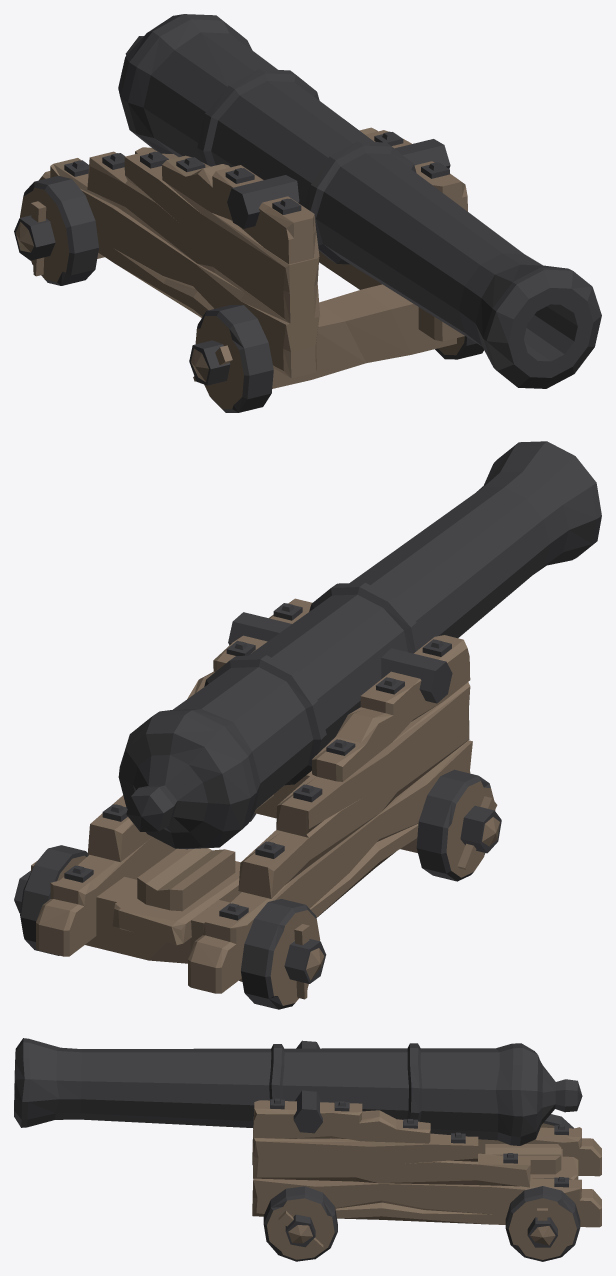
The model's file is SM_Prop_Cannon_02.glb.
The picture shows the model from 3 angles, top to bottom: view 1: azimuth 30°, elevation 25°; view 2: azimuth 150°, elevation 25°; view 3: azimuth 270°, elevation 25°; orthographic projection. The views are drawn at different scales.
Visible parts, largest first — view 1: SM_Prop_Cannon_02_part00; view 2: SM_Prop_Cannon_02_part00; view 3: SM_Prop_Cannon_02_part00.
Part boxes in pixels (x1,y1,x2,y2): SM_Prop_Cannon_02_part00: (14, 14, 601, 412); SM_Prop_Cannon_02_part00: (14, 441, 601, 1009); SM_Prop_Cannon_02_part00: (14, 1038, 601, 1261).
Bounding box in the file's own units: 1.04 × 0.8555 × 2.55.
Materials: 1 (1 with a texture image).
